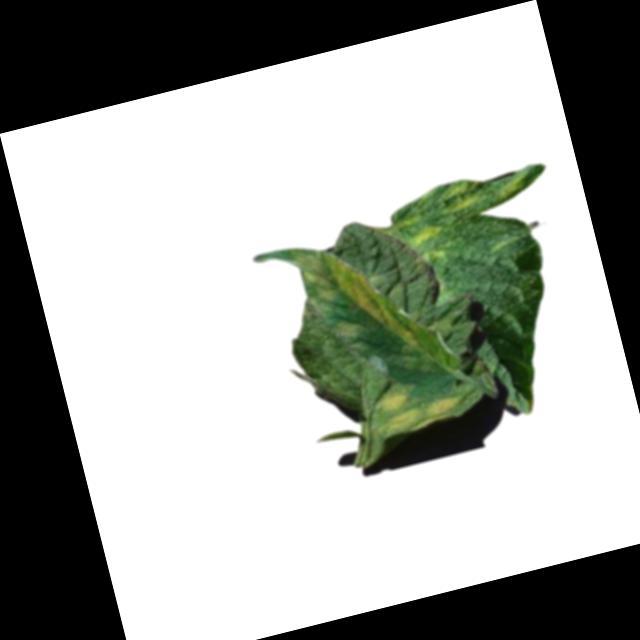Leaf_Mold: (288, 234, 395, 343), (371, 371, 466, 440), (436, 175, 486, 218), (402, 222, 450, 266)
